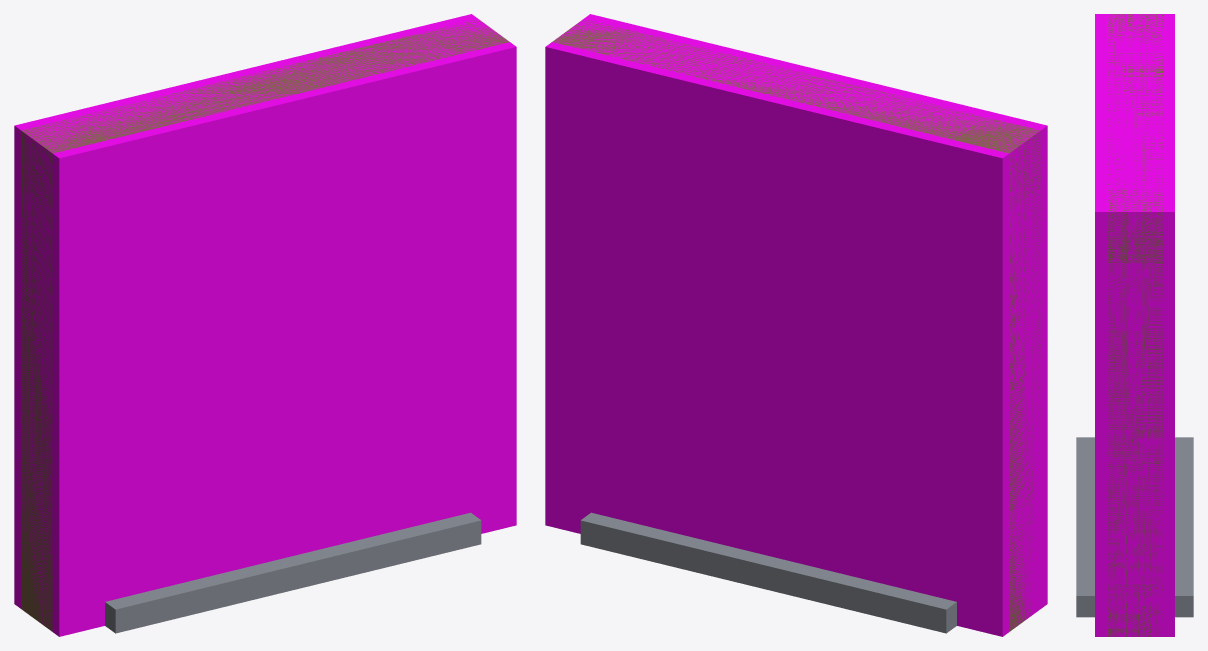
The model's file is door.glb.
3 renders of one model, left to right at view 1: azimuth 30°, elevation 25°; view 2: azimuth 150°, elevation 25°; view 3: azimuth 270°, elevation 25°, orthographic. The views are drawn at different scales.
Parts seen in each view (by area): view 1: Col_door, Col_post_L, Col_post_R, M_b0, M_b1; view 2: Col_door, Col_post_L, Col_post_R, M_b0, M_b1; view 3: Col_post_R, M_b0, Col_door, M_b1, Col_post_L.
Boxes of the visible parts, left/top/right/bottom form: Col_door: left=69, top=27, right=461, bottom=599; Col_post_L: left=14, top=112, right=114, bottom=636; Col_post_R: left=417, top=14, right=516, bottom=533; M_b0: left=21, top=19, right=509, bottom=631; M_b1: left=105, top=512, right=481, bottom=633; Col_door: left=600, top=27, right=992, bottom=599; Col_post_L: left=947, top=112, right=1047, bottom=636; Col_post_R: left=545, top=14, right=644, bottom=533; M_b0: left=552, top=20, right=1040, bottom=631; M_b1: left=580, top=512, right=956, bottom=633; Col_post_R: left=1095, top=188, right=1174, bottom=636; M_b0: left=1107, top=14, right=1162, bottom=636; Col_door: left=1095, top=37, right=1174, bottom=188; M_b1: left=1076, top=437, right=1193, bottom=617; Col_post_L: left=1095, top=14, right=1174, bottom=37.
Bounding box in the file's own units: 2 × 2 × 0.5.
